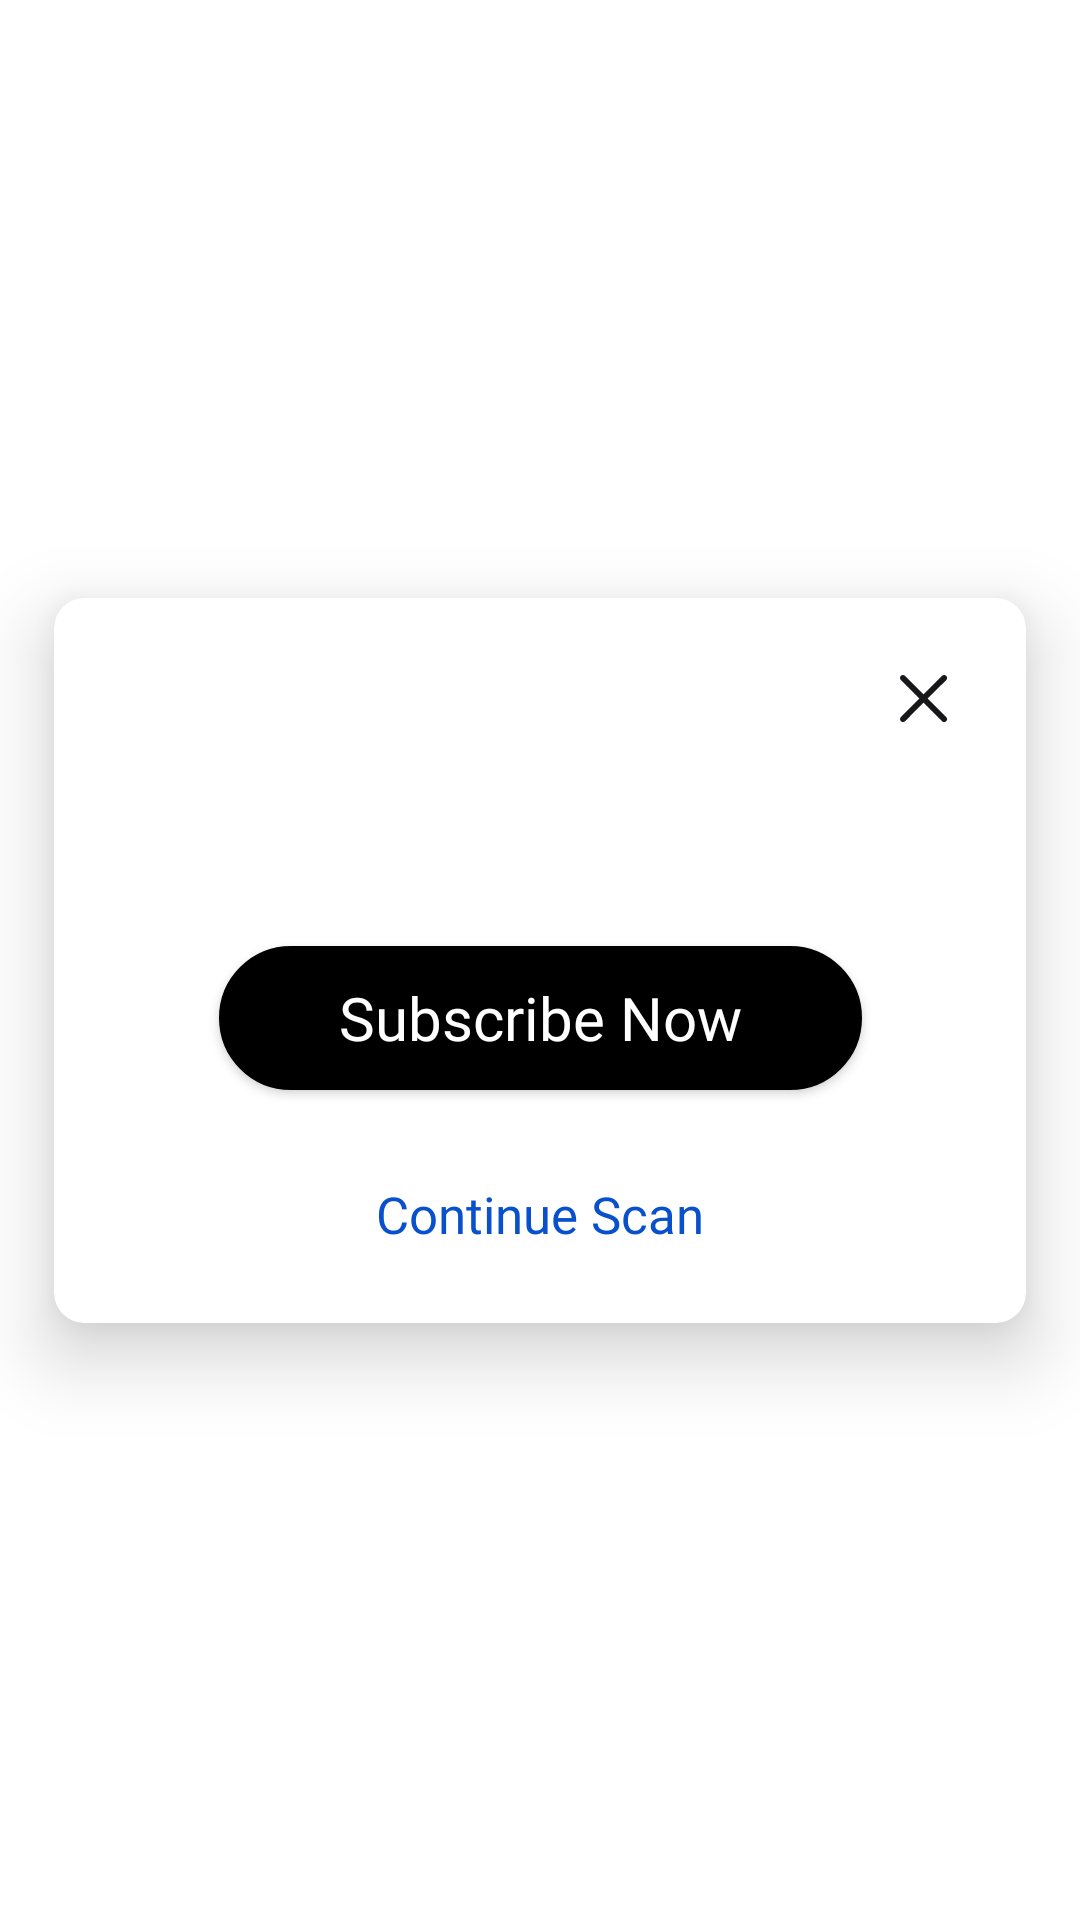

Icons on this 1080*1920 Android screen, each with its box as (x1, y1, x2, y2):
close: (900, 675, 947, 722)
